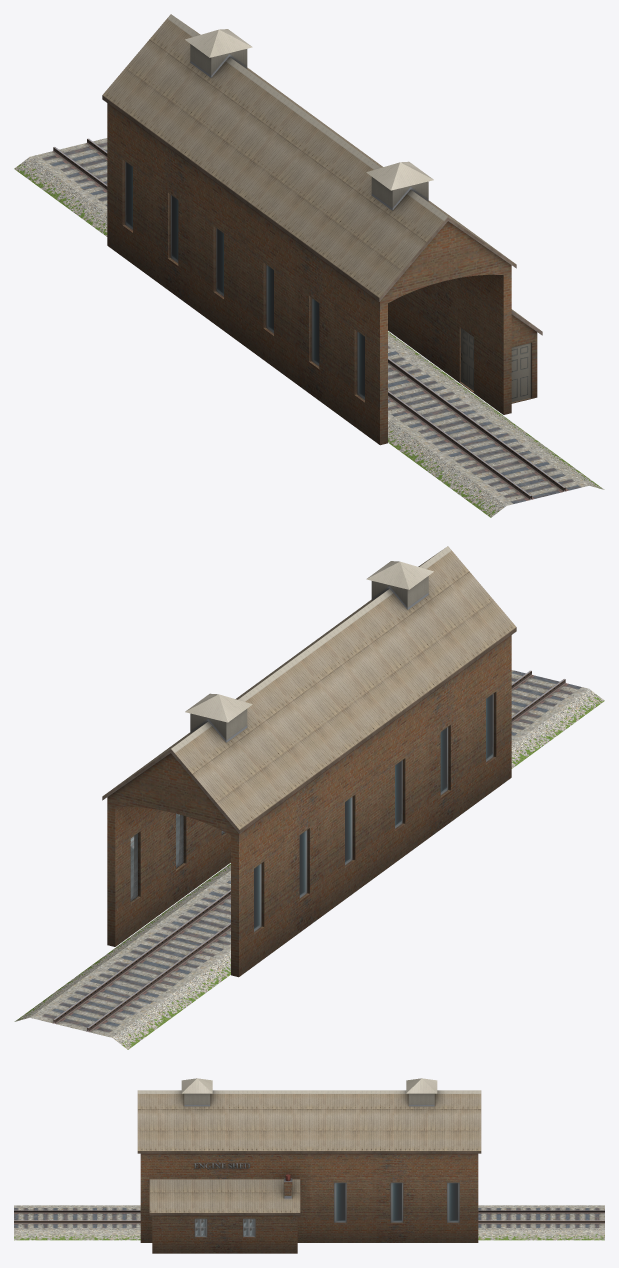
File: EngineShed3.fbx
3 views of the same model, one above another, from view 1: azimuth 30°, elevation 25°; view 2: azimuth 150°, elevation 25°; view 3: azimuth 270°, elevation 25° (orthographic). The views are drawn at different scales.
Parts seen in each view (by area): view 1: U3DMesh; view 2: U3DMesh; view 3: U3DMesh.
Part boxes in pixels (x1,y1,x2,y2): U3DMesh: [14, 14, 604, 517]; U3DMesh: [14, 546, 604, 1049]; U3DMesh: [14, 1078, 604, 1253].
Bounding box in the file's own units: 6.69 × 8.65 × 32.
